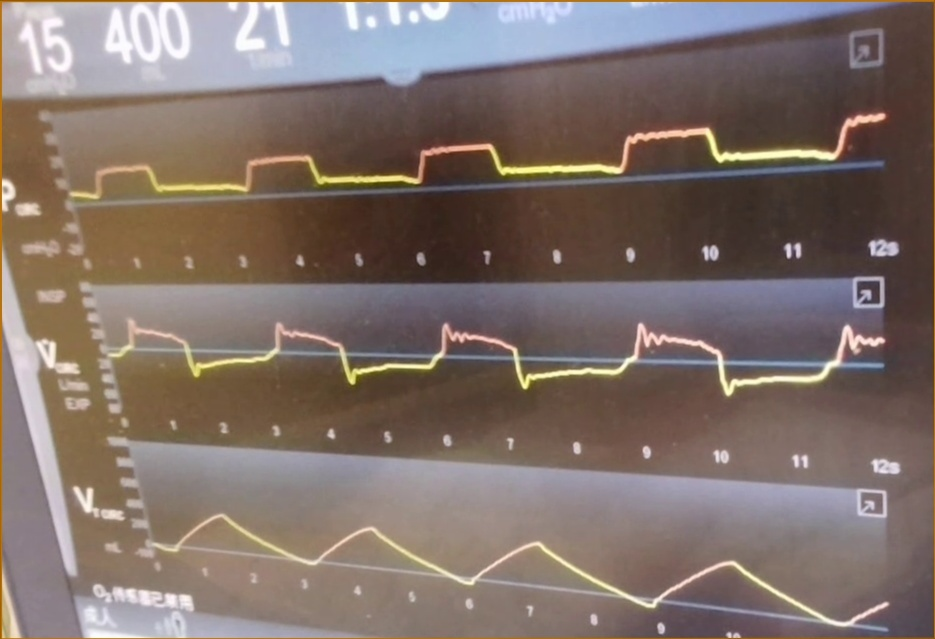Accumulation Flow: (108, 289, 885, 419)
Volume: (152, 484, 884, 627)
